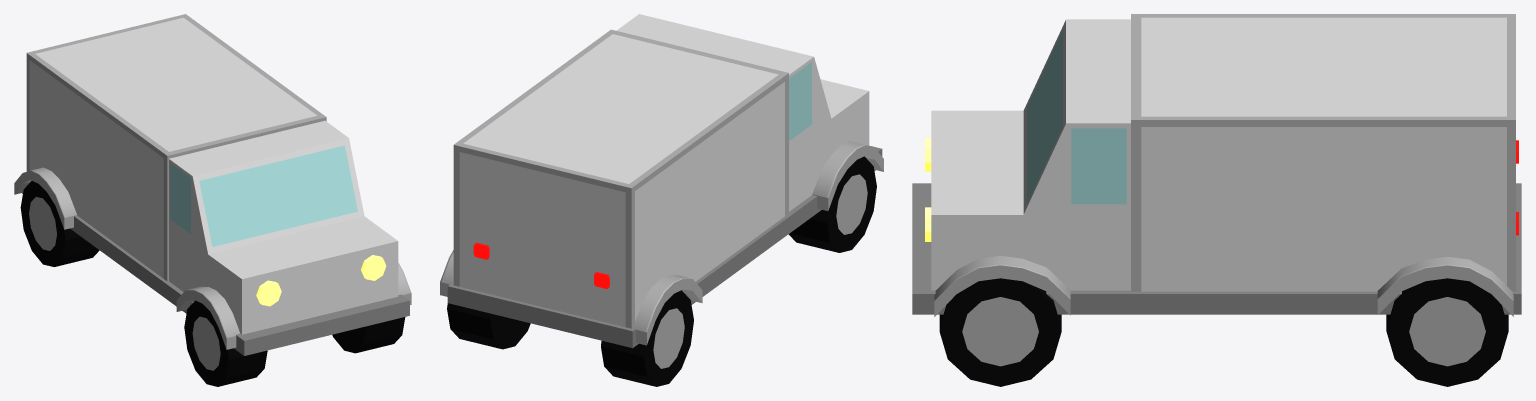
File: big.fbx
3 views of the same model, side by side, from view 1: azimuth 30°, elevation 25°; view 2: azimuth 150°, elevation 25°; view 3: azimuth 270°, elevation 25° (orthographic). The views are drawn at different scales.
Visible parts, largest first — view 1: Cube.002, Cube.003, Cylinder, Cube.001, Cylinder.001; view 2: Cube.002, Cylinder, Cube.003, Cube.001, Cylinder.001; view 3: Cube.002, Cube.003, Cylinder, Cube.001, Cylinder.001.
Boxes of the visible parts, x1,y1,x2,y2 form: Cube.002: (26,14,326,281); Cube.003: (169,120,398,334); Cylinder: (14,167,411,386); Cube.001: (22,192,409,355); Cylinder.001: (256,255,386,306); Cube.002: (453,29,788,328); Cylinder: (440,141,883,386); Cube.003: (616,14,869,211); Cube.001: (447,145,882,348); Cylinder.001: (473,242,609,288); Cube.002: (1131,14,1515,291); Cube.003: (931,19,1130,290); Cylinder: (934,256,1513,386); Cube.001: (912,183,1521,314); Cylinder.001: (925,137,1518,241).
Size of the model in its own units: 76.66 by 75.73 by 160.
